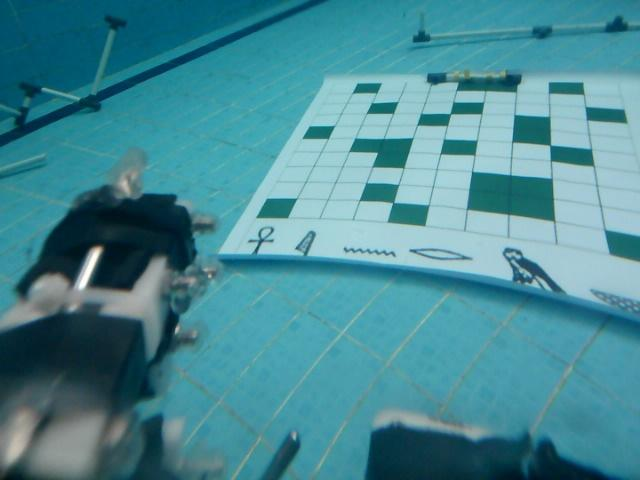Ankh: (245, 224, 282, 259)
Mouth: (411, 245, 474, 266)
Owl: (500, 241, 567, 300)
Reed: (291, 229, 318, 256)
Water: (339, 241, 397, 261)
